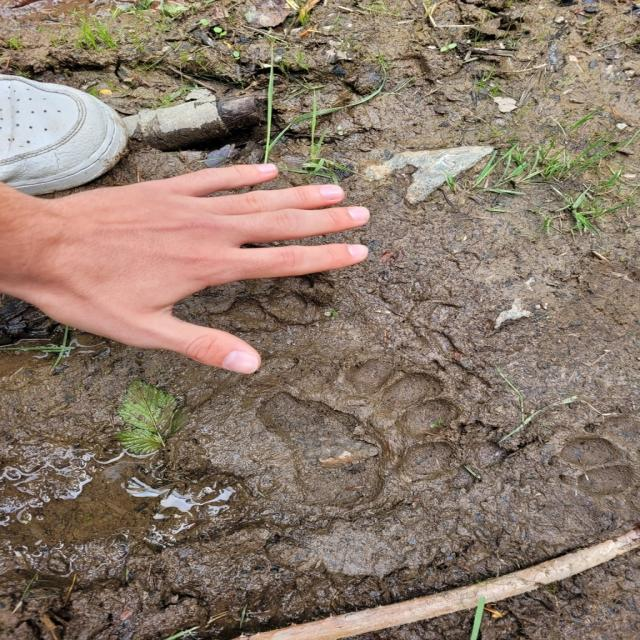bear: (262, 354, 468, 514)
